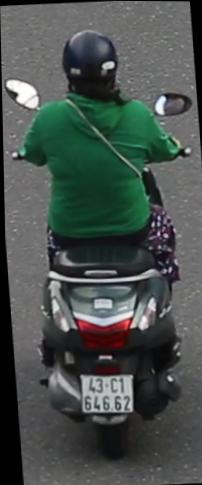LP: (75, 369, 136, 420)
helmet: (58, 24, 126, 108)
